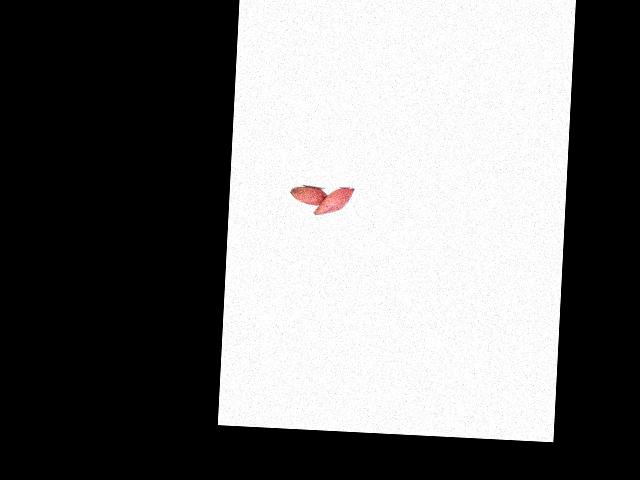sweet_potato: (288, 185, 331, 208)
